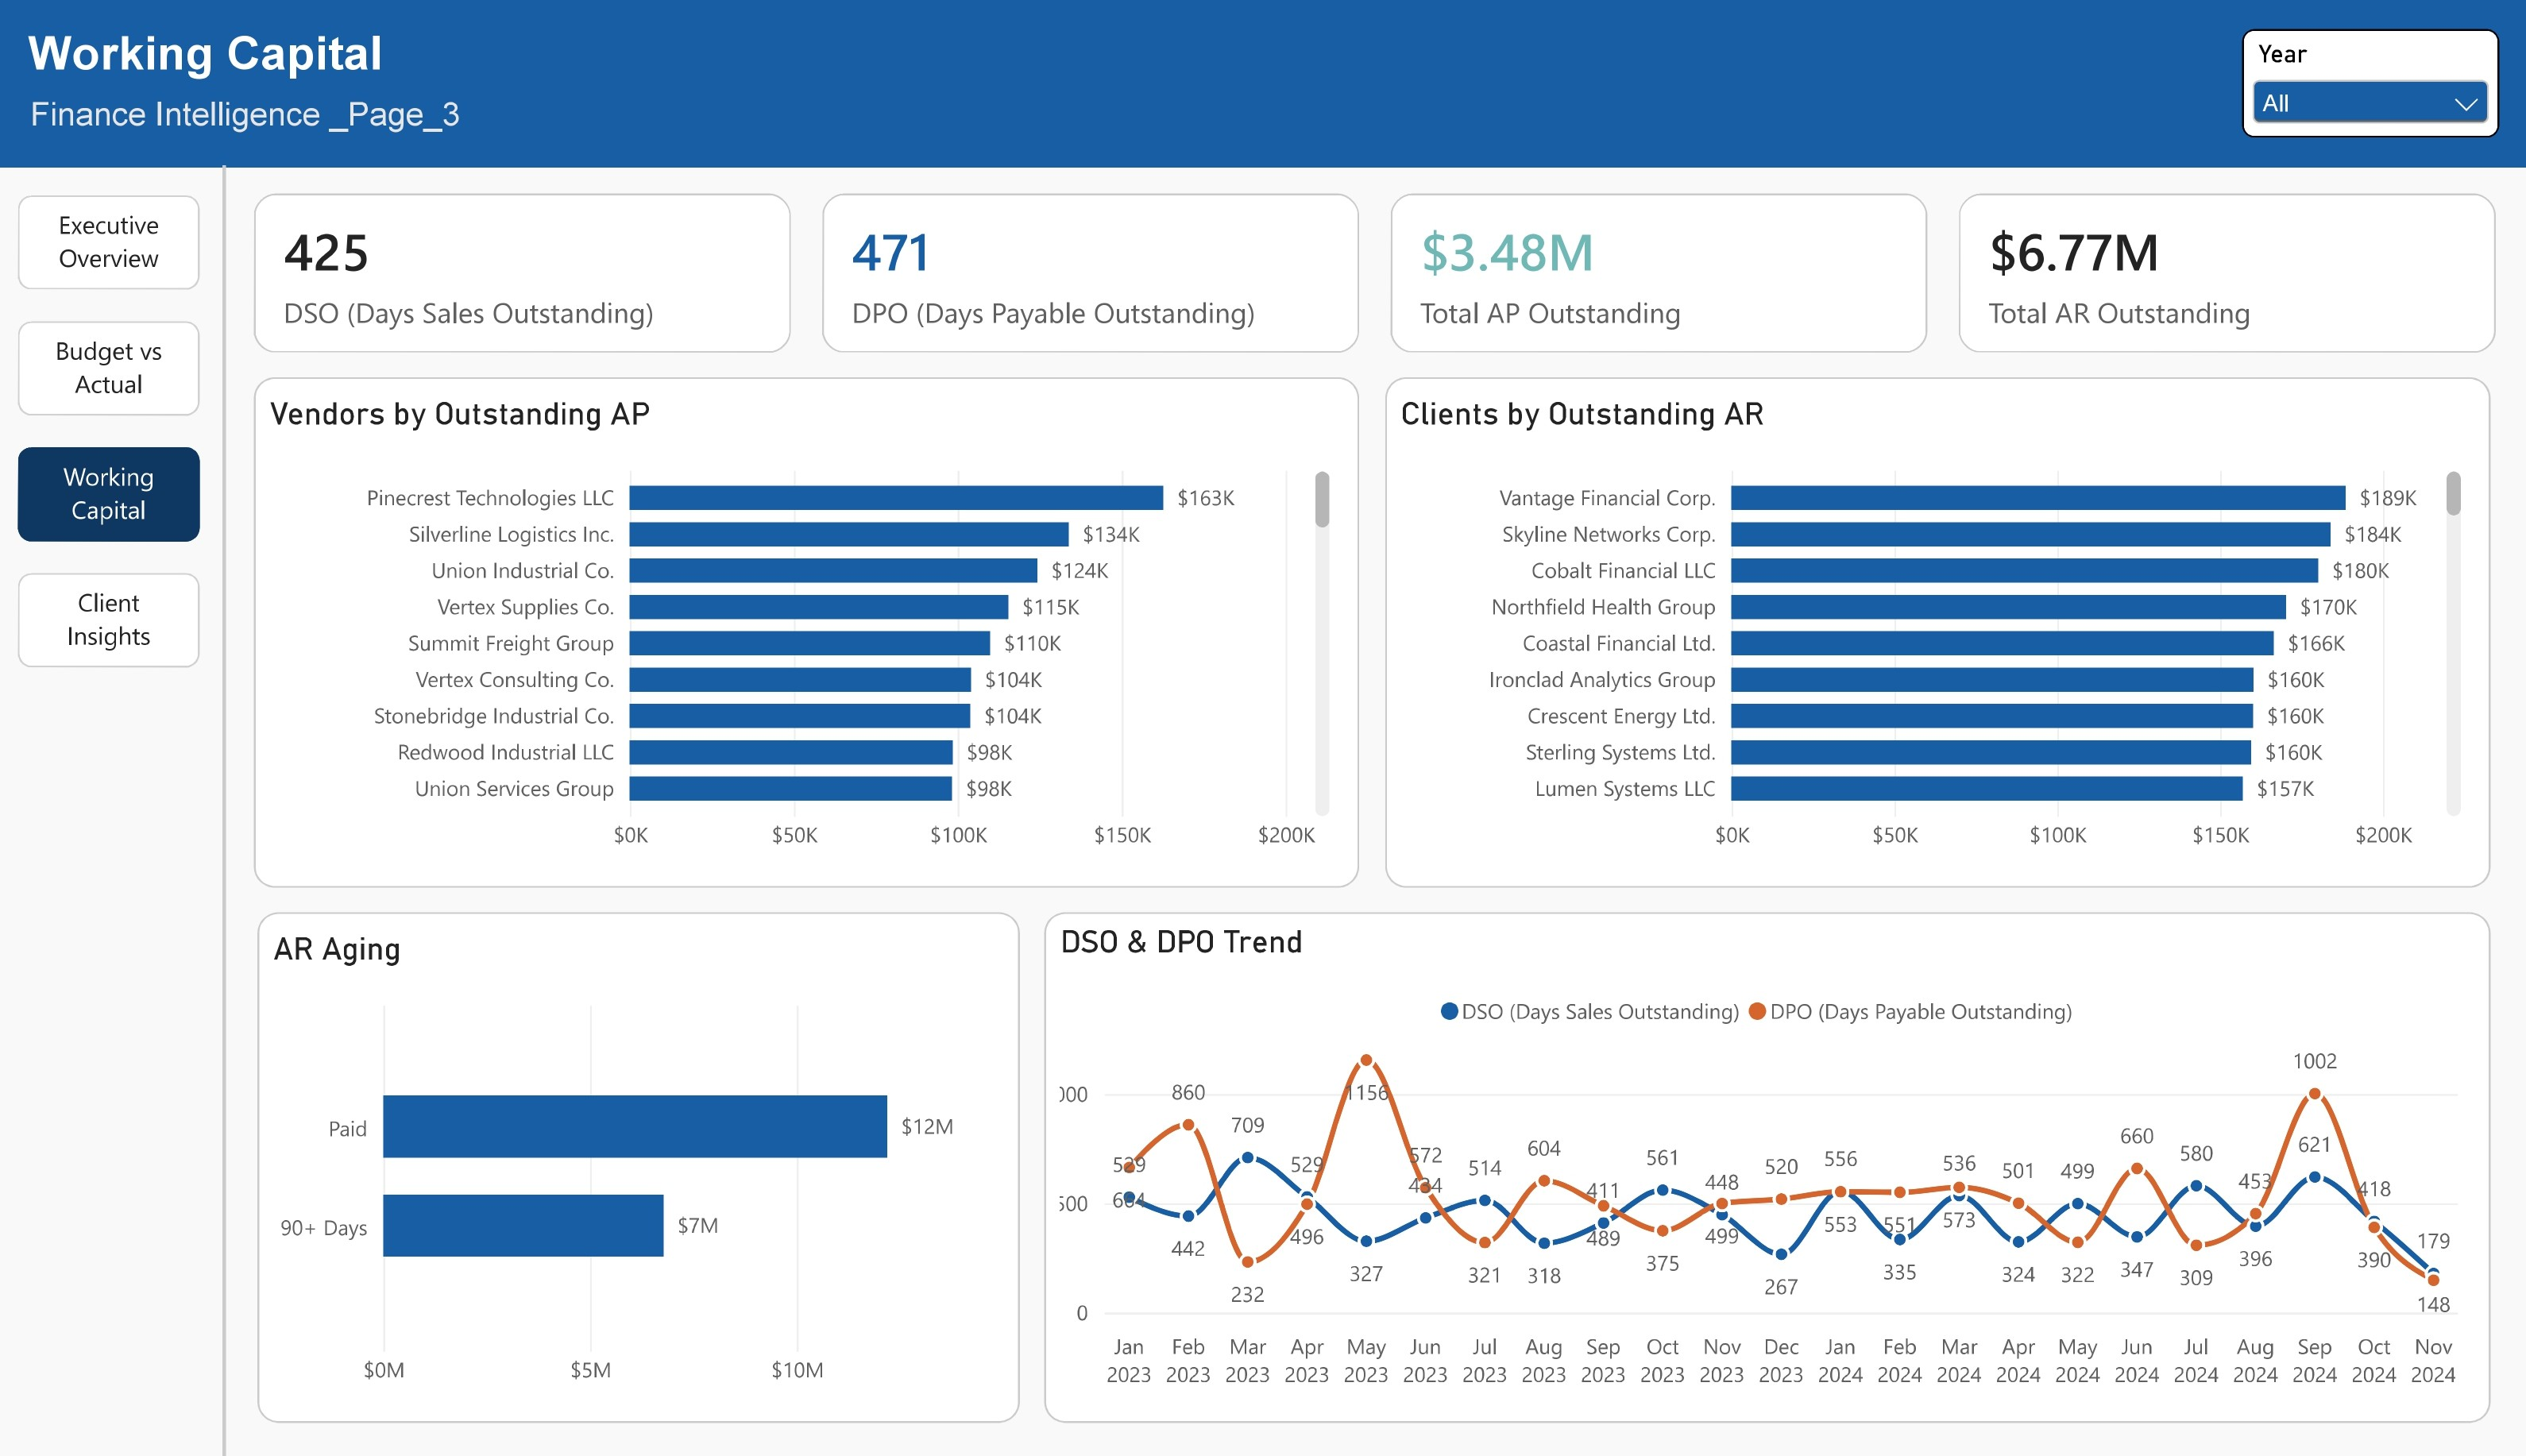

Layout of this report page (visuals, bound fields, positions):
{"tool":"powerbi","page":{"name":"Working Capital","canvas":[1450,847],"ordinal":2},"visuals":[{"type":"shape","box":[0,2,1450,96],"z":0},{"type":"waterfallChart","fields":{"Category":["PnL_Lines.LineItem"],"Y":["_Measures.PnL Value"]},"box":[380,888.3,295,191.7],"z":1000},{"type":"lineChart","title":"DSO & DPO Trend","fields":{"Category":["Dim_Date.YearMonth"],"Y":["_Measures.DSO (Days Sales Outstanding)","_Measures.DPO (Days Payable Outstanding)"]},"box":[601.1,524,826.7,291.7],"z":2000},{"type":"textbox","box":[19.6,17.9,544.6,50],"z":3000},{"type":"textbox","box":[21.4,57.1,430.4,44.6],"z":4000},{"type":"cardVisual","fields":{"Data":["_Measures.DSO (Days Sales Outstanding)","_Measures.DPO (Days Payable Outstanding)","_Measures.Total AP Outstanding","_Measures.Total AR Outstanding"]},"box":[149.2,113.2,1282.4,90.3],"z":7000},{"type":"barChart","title":"AR Aging","fields":{"Category":["Fact_ARInvoices.AgingBucket"],"Y":["Sum(Fact_ARInvoices.Amount)"]},"box":[151.1,524.2,436,291.7],"z":8001},{"type":"barChart","title":"Clients by Outstanding AR","fields":{"Category":["Dim_Customer.CustomerName"],"Y":["_Measures.Total AR Outstanding"]},"box":[796.1,218.2,631.7,291.7],"z":8002},{"type":"barChart","title":"Vendors by Outstanding AP","fields":{"Category":["Dim_Vendor.VendorName"],"Y":["_Measures.Total AP Outstanding"]},"box":[149.4,218.2,632,291.7],"z":8003},{"type":"pageNavigator","box":[13.8,114.3,104.3,270],"z":8004},{"type":"shape","box":[117.4,96.6,30,750.4],"z":8005},{"type":"slicer","fields":{"Values":["Dim_Date.Year"]},"box":[1286.2,18.8,146.2,62.5],"z":8006}]}

Visuals, with their boxes in screenshot pixels (x1, y1, x2, y2), scaled from the page's 1450x847 canvas onto the 2526x1456 screenshot:
shape: rect(0, 3, 2525, 168)
"DSO & DPO Trend" lineChart: rect(1047, 901, 2487, 1402)
textbox: rect(34, 31, 983, 117)
textbox: rect(37, 98, 787, 175)
cardVisual - _Measures.DSO (Days Sales Outstanding) x _Measures.DPO (Days Payable Outstanding): rect(260, 195, 2494, 350)
"AR Aging" barChart: rect(263, 901, 1023, 1403)
"Clients by Outstanding AR" barChart: rect(1387, 375, 2487, 876)
"Vendors by Outstanding AP" barChart: rect(261, 375, 1361, 876)
pageNavigator: rect(24, 196, 206, 661)
shape: rect(204, 166, 257, 1455)
slicer - Dim_Date.Year: rect(2241, 33, 2495, 140)
